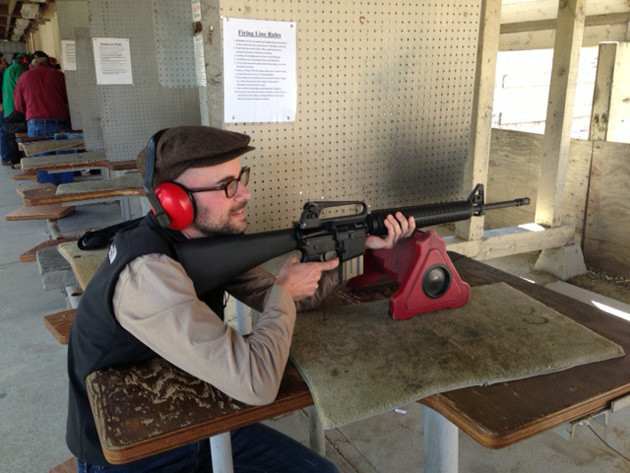Rifle: (176, 184, 533, 305)
